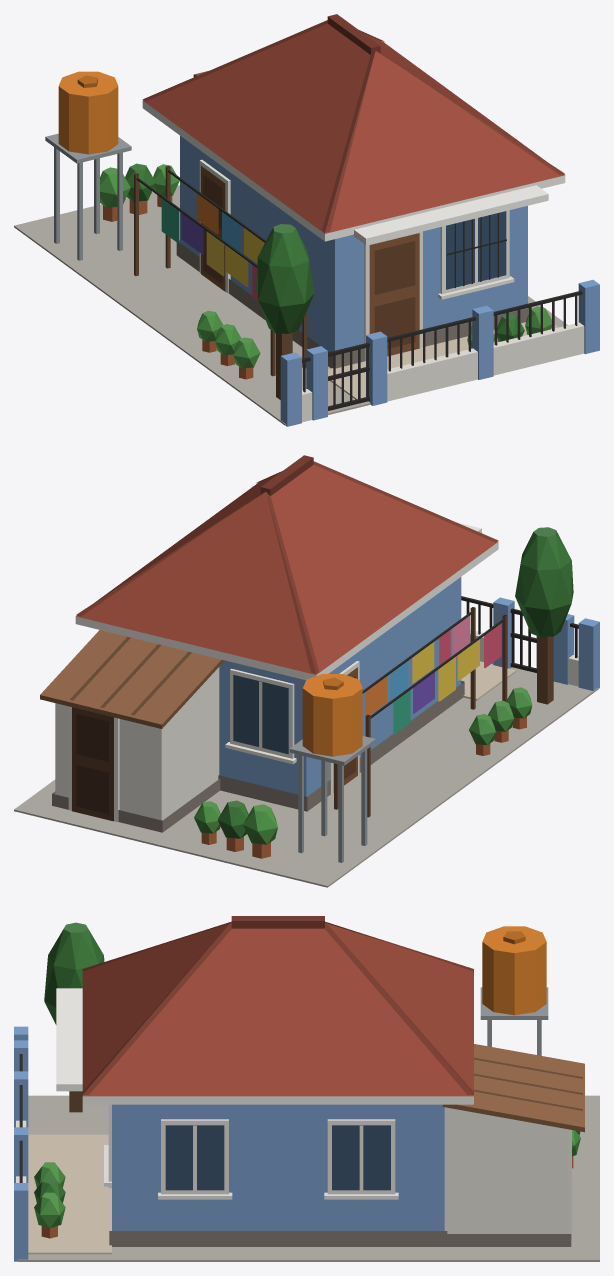
File: rumah_14.glb
The picture shows the model from 3 angles, top to bottom: view 1: azimuth 30°, elevation 25°; view 2: azimuth 150°, elevation 25°; view 3: azimuth 270°, elevation 25°; orthographic projection. The views are drawn at different scales.
Visible parts, largest first — view 1: rumah_14; view 2: rumah_14; view 3: rumah_14.
Part boxes in pixels (left/top/right/bottom): rumah_14: left=14, top=14, right=599, bottom=426; rumah_14: left=14, top=455, right=599, bottom=887; rumah_14: left=14, top=916, right=599, bottom=1261.
Bounding box in the file's own units: 5.96 × 4.71 × 8.98.
